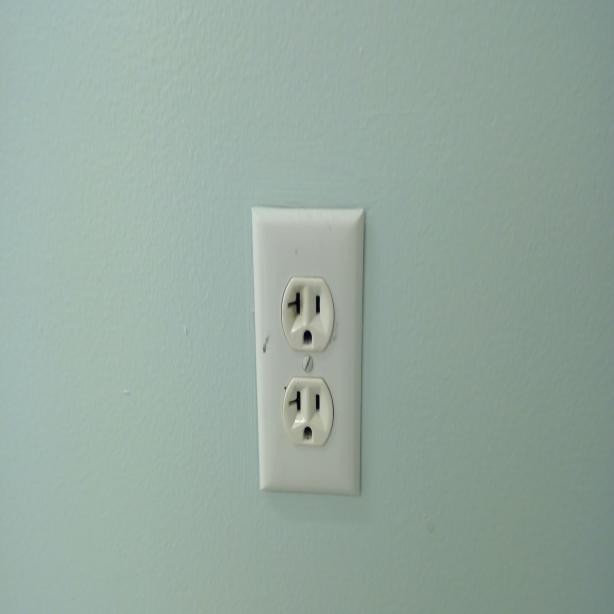typeb: (283, 278, 329, 354), (284, 375, 330, 446)
